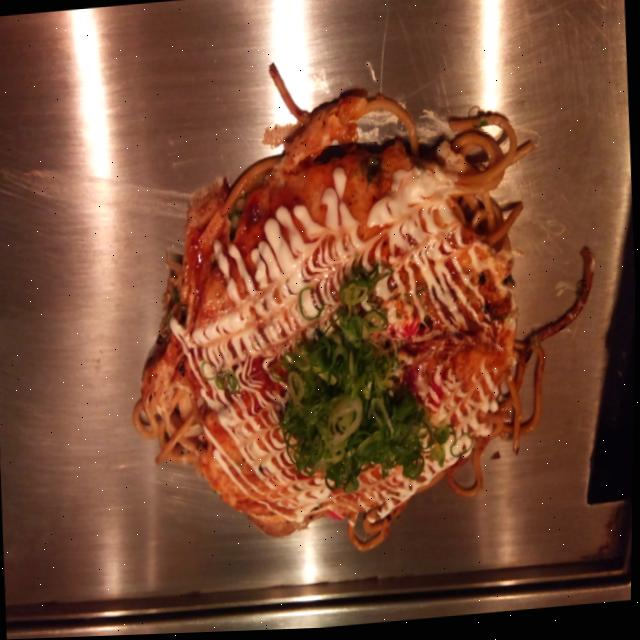蛋糕甜品: (135, 85, 548, 554)
